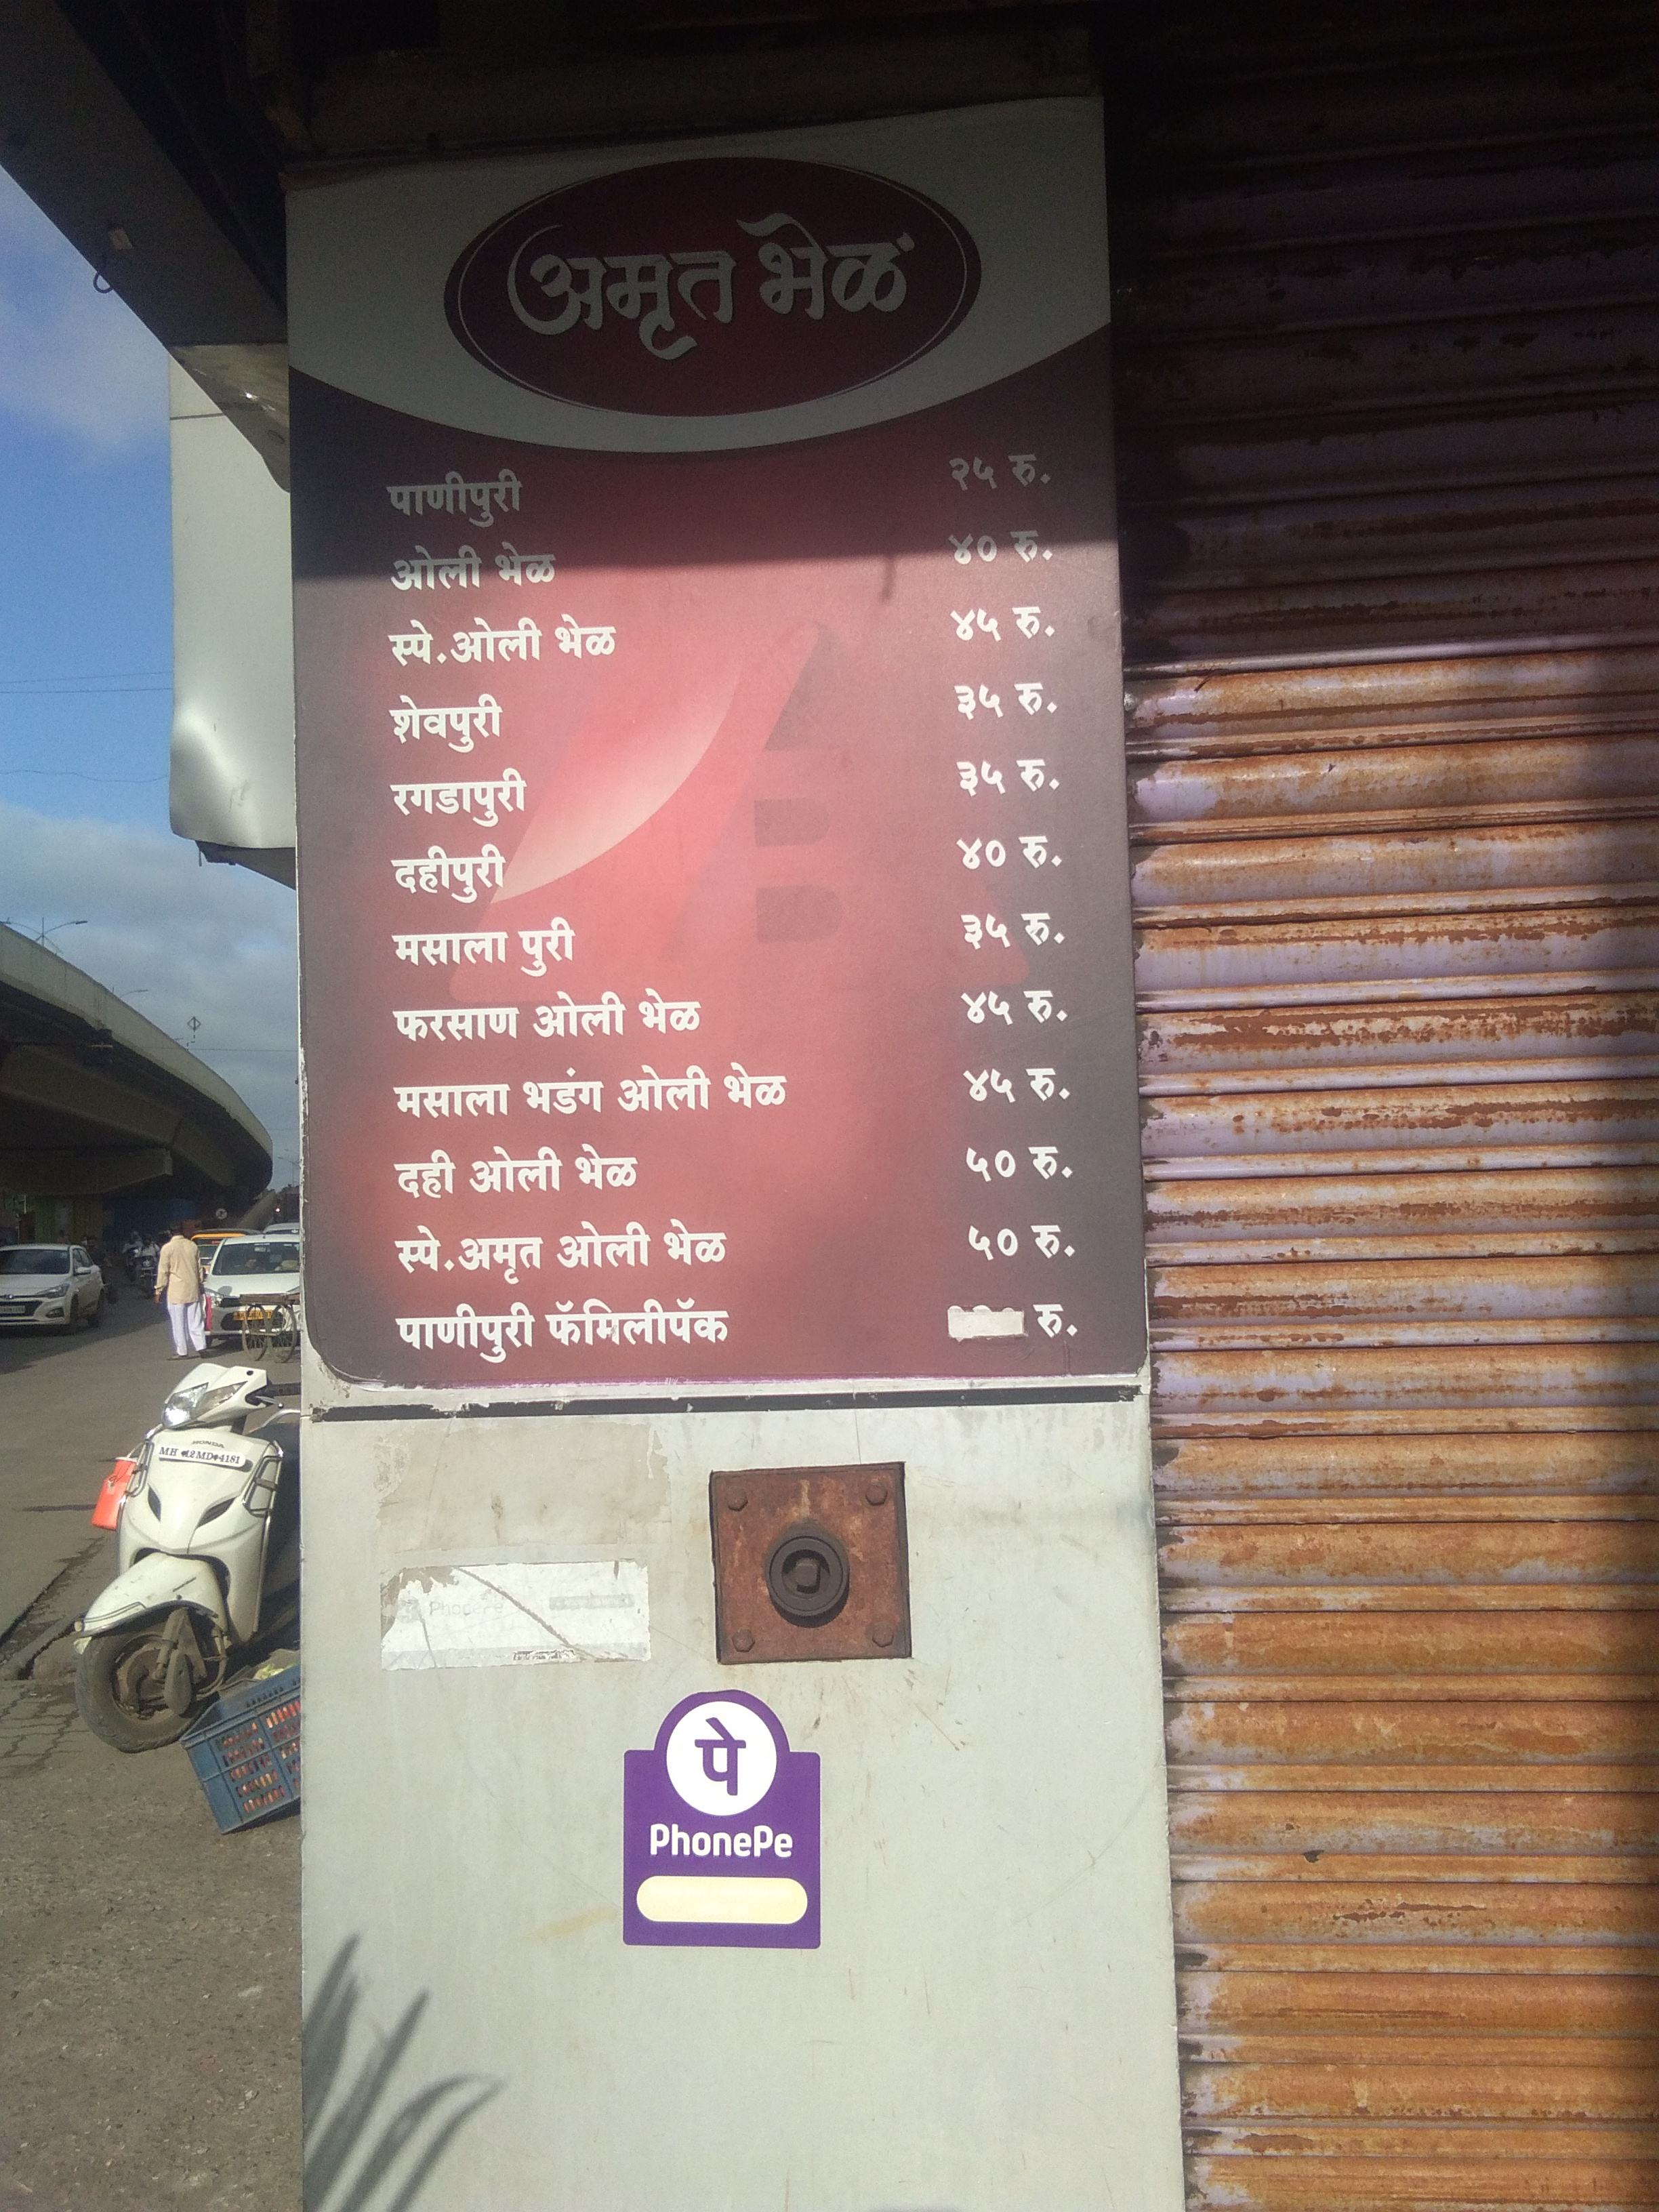text: (281, 82, 1162, 1416)
